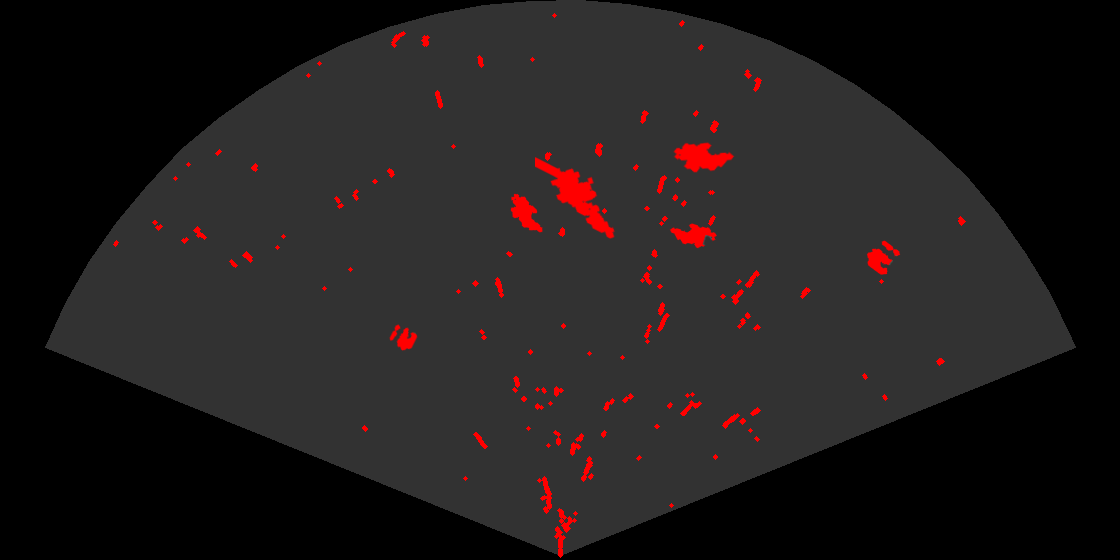AUV: (672, 141, 736, 174), (509, 192, 544, 234), (669, 222, 718, 250)
ball: (865, 239, 902, 276), (388, 323, 419, 352)
frogman: (535, 155, 617, 240)
